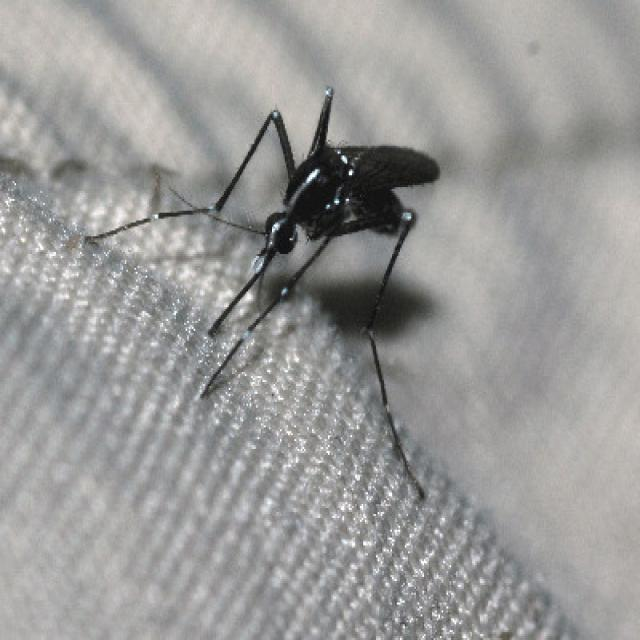antennae: (167, 183, 272, 249)
body: (268, 144, 436, 256)
insect: (88, 85, 443, 507)
legs: (89, 91, 346, 245), (304, 238, 435, 499), (199, 278, 298, 400)
mouthpart: (206, 233, 281, 341)
wings: (333, 136, 439, 192)
